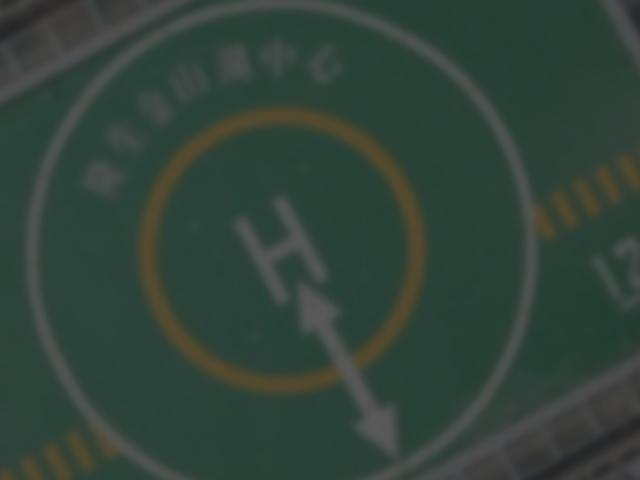Apron: (127, 78, 430, 403)
